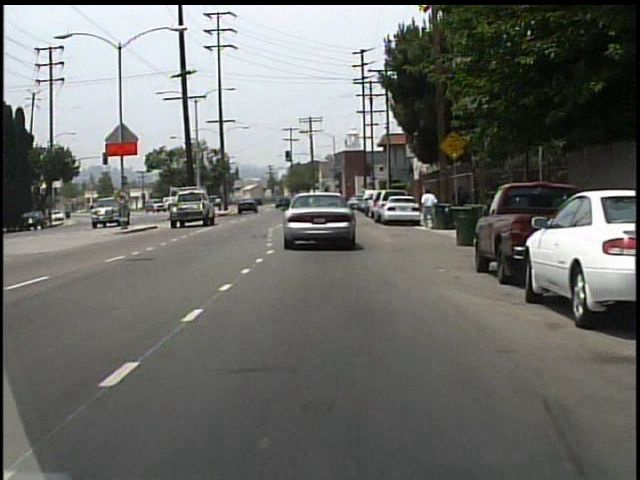person: (419, 187, 437, 231)
